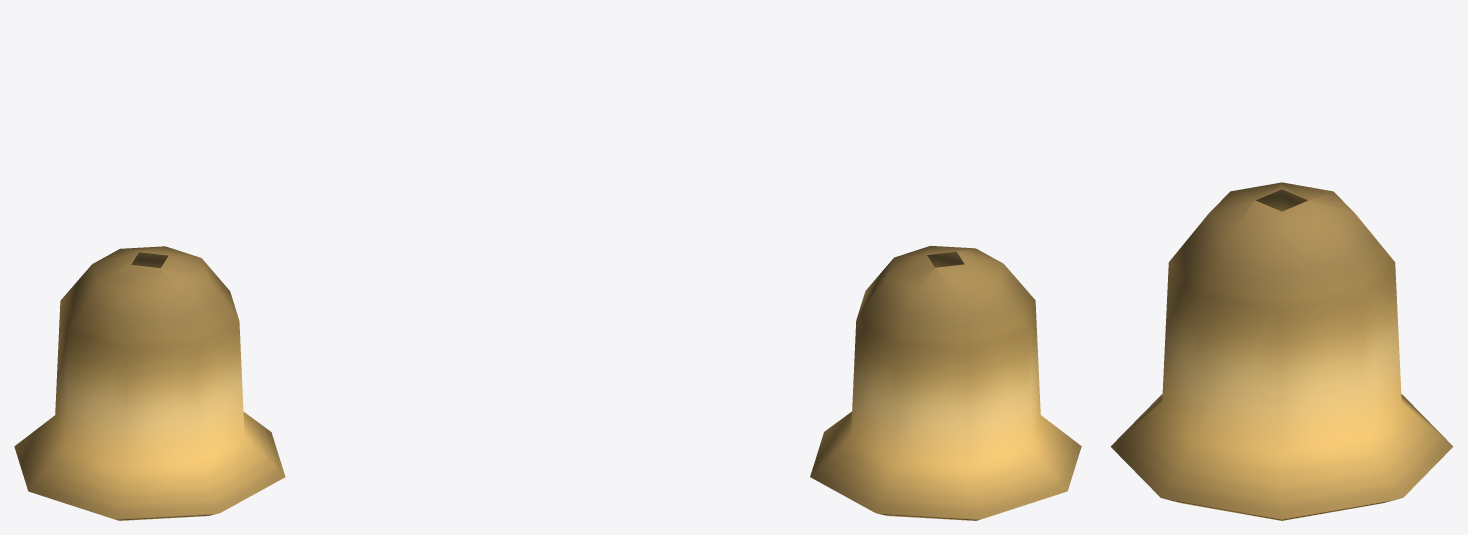
The model's file is Light_wall.fbx.
3 renders of one model, left to right at view 1: azimuth 30°, elevation 25°; view 2: azimuth 150°, elevation 25°; view 3: azimuth 270°, elevation 25°, orthographic. The views are drawn at different scales.
Parts seen in each view (by area): view 1: Light_Wall; view 2: Light_Wall; view 3: Light_Wall.
Part boxes in pixels (left/top/right/bottom): Light_Wall: left=14, top=246, right=285, bottom=520; Light_Wall: left=810, top=246, right=1081, bottom=520; Light_Wall: left=1110, top=182, right=1453, bottom=520.
Size of the model in its own units: 0.4453 by 0.3615 by 0.2376.
